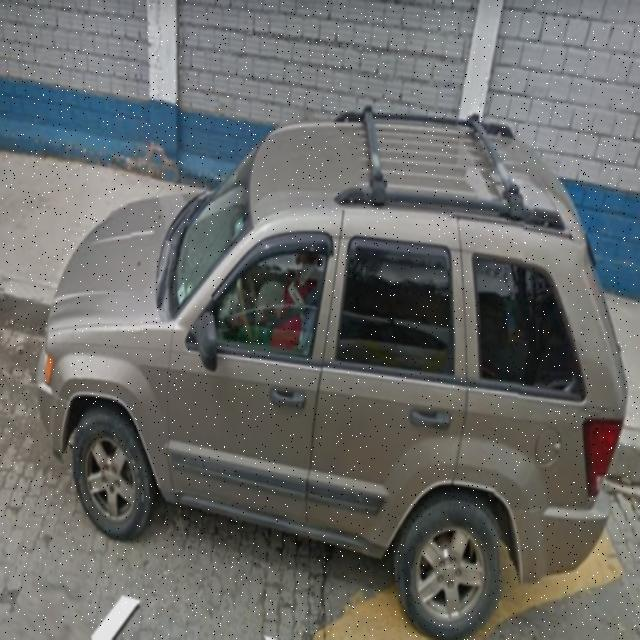cars: (50, 96, 631, 627)
